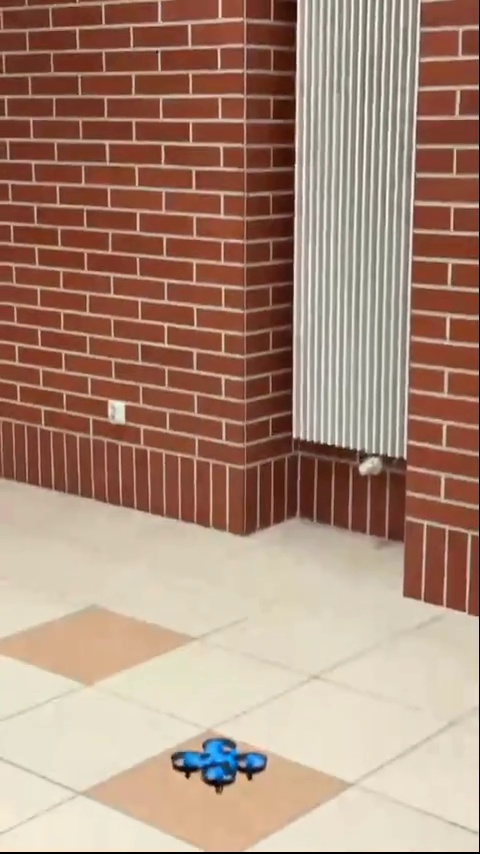drone: (173, 739, 272, 790)
